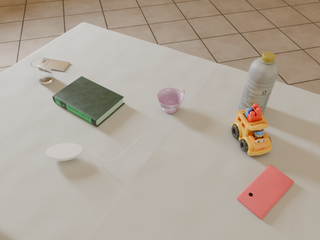book: (53, 76, 125, 127)
bottle: (239, 52, 279, 115)
cup: (157, 88, 185, 113), (31, 58, 53, 84)
mouse: (46, 143, 82, 161)
phone: (237, 165, 294, 219), (48, 59, 70, 71)
toy_car: (231, 103, 271, 155)
